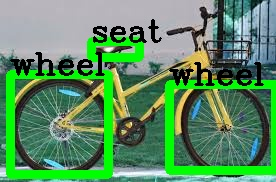seat: (91, 41, 139, 57)
wheel: (10, 74, 108, 174), (169, 84, 275, 170)
